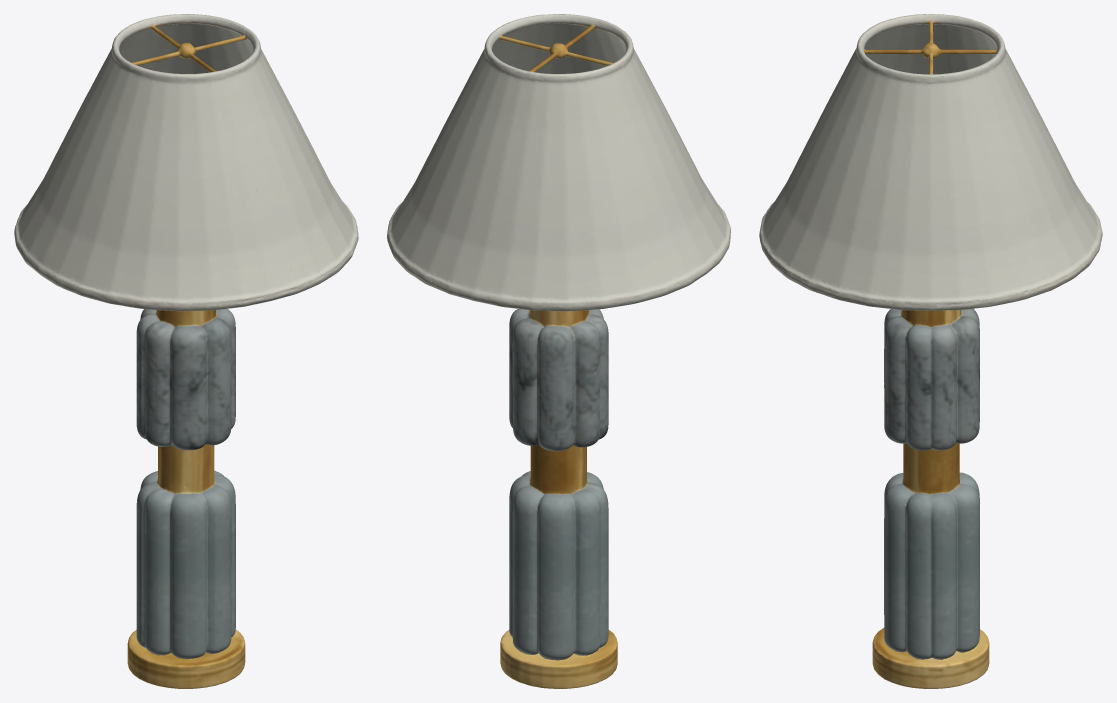
The model's file is Contemporary Green Marble and Brass Table Lamp [sMuN8Y].glb.
3 views of the same model, side by side, from view 1: azimuth 30°, elevation 25°; view 2: azimuth 150°, elevation 25°; view 3: azimuth 270°, elevation 25° (orthographic).
Visible parts, largest first — view 1: world; view 2: world; view 3: world.
Boxes of the visible parts, x1,y1,x2,y2 form: world: (14,14,358,688); world: (387,14,730,688); world: (759,14,1102,688).
Bounding box in the file's own units: 0.5029 × 1 × 0.5033.
1 material, 1 textured.
